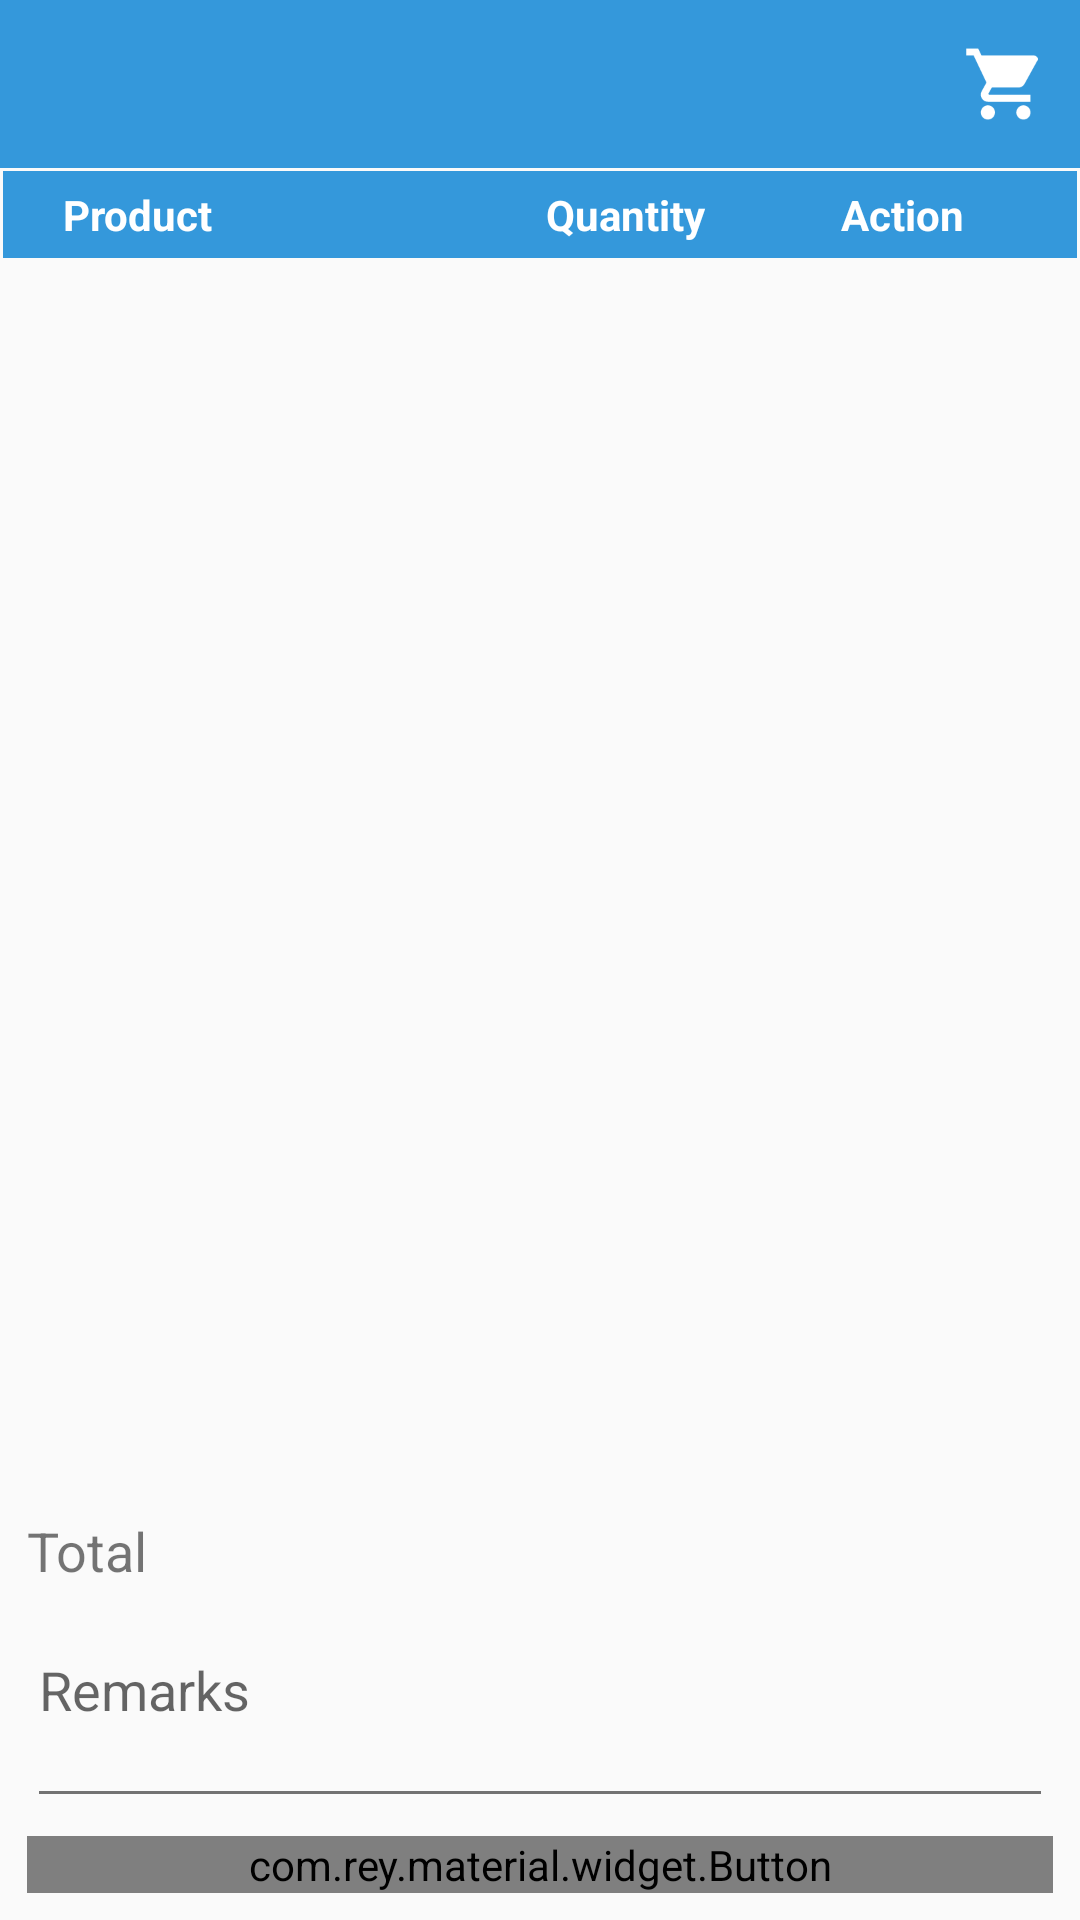

Icons on this 1080*1920 Android screen, each with the point to tap as (x,y):
cart: (1002,84)
